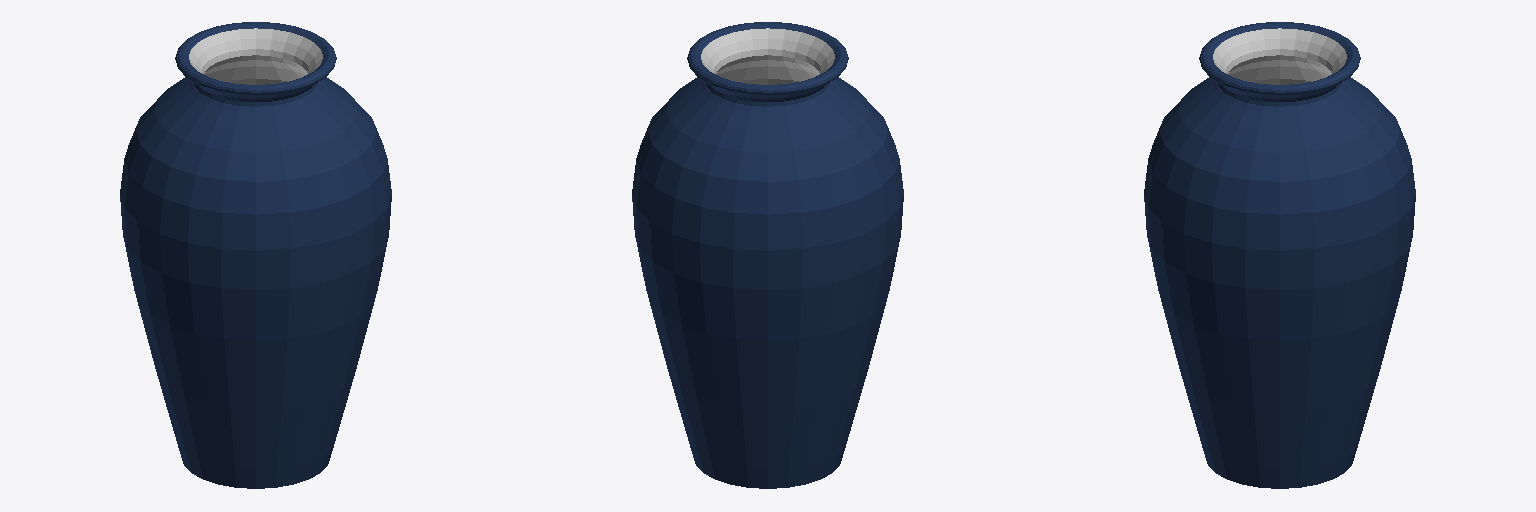
The model's file is high-vase.obj.
3 views of the same model, side by side, from view 1: azimuth 30°, elevation 25°; view 2: azimuth 150°, elevation 25°; view 3: azimuth 270°, elevation 25° (orthographic).
Parts seen in each view (by area): view 1: jar_Plane; view 2: jar_Plane; view 3: jar_Plane.
Part boxes in pixels (left/top/right/bottom): jar_Plane: left=120, top=22, right=391, bottom=488; jar_Plane: left=632, top=22, right=903, bottom=488; jar_Plane: left=1144, top=22, right=1415, bottom=488.
Bounding box in the file's own units: 0.4715 × 0.7717 × 0.4715.